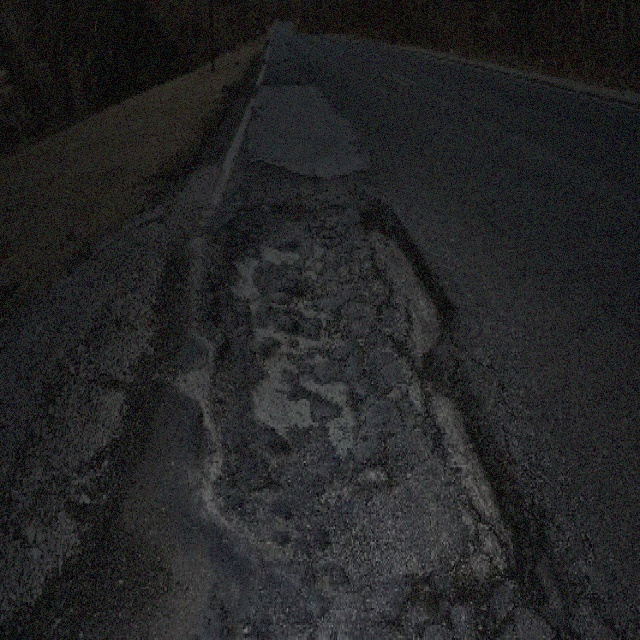pothole: (196, 190, 542, 625)
